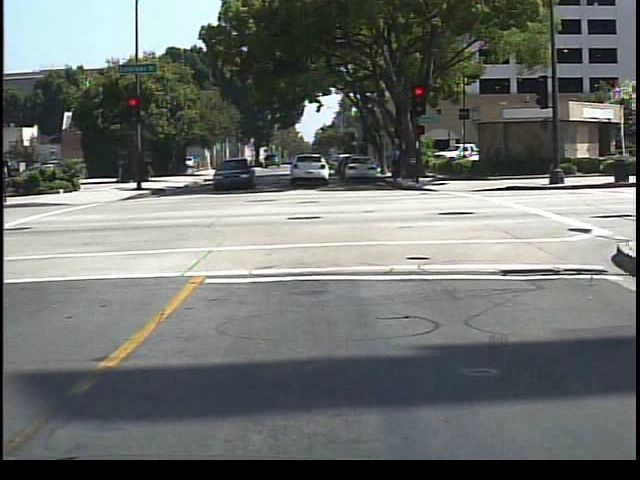person: (387, 142, 405, 184)
